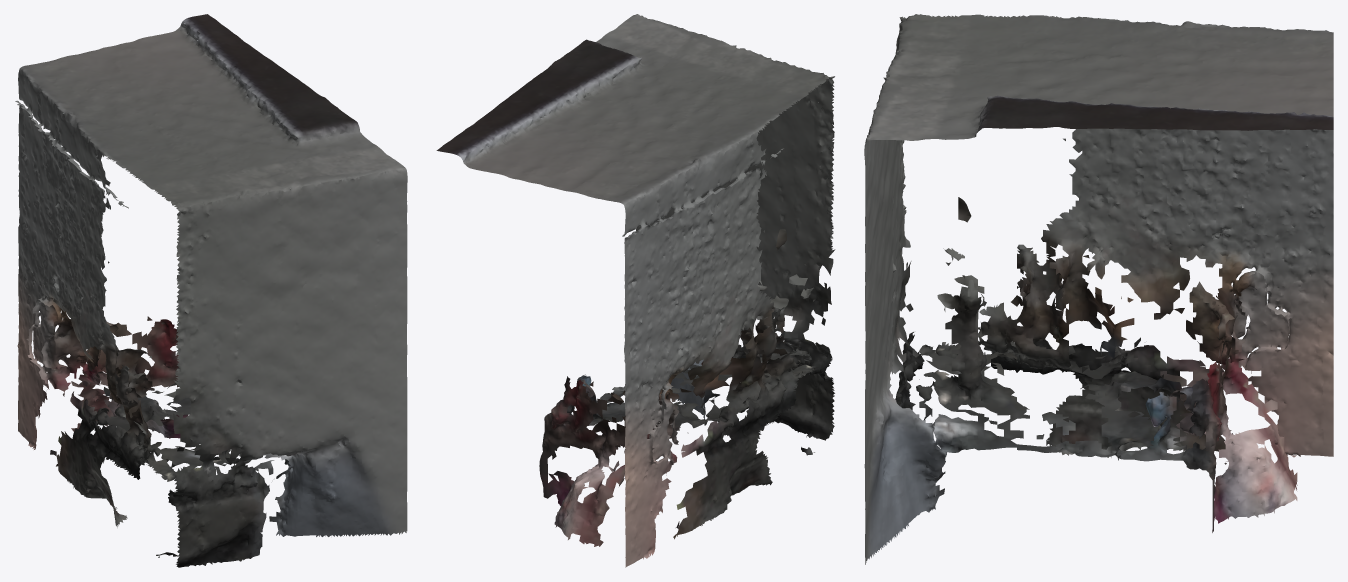
File: fine.glb
3 renders of one model, left to right at view 1: azimuth 30°, elevation 25°; view 2: azimuth 150°, elevation 25°; view 3: azimuth 270°, elevation 25°, orthographic. The views are drawn at different scales.
Size of the model in its own units: 0.7989 by 1.32 by 1.28.
